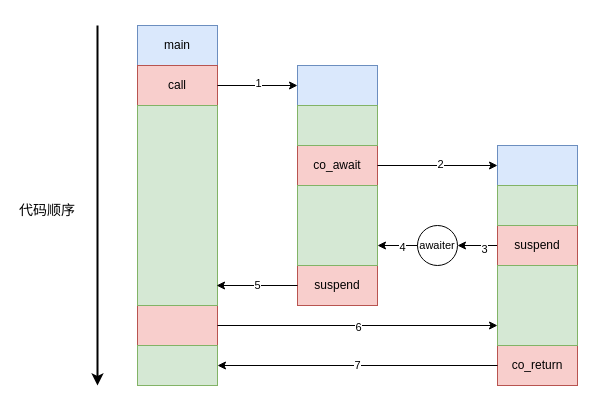
The diagram is 595 pixels wide and 411 high, and some of its shapes have lost their labels. Here are the shapes that lost their labels. From the top down, the centre of each, then its label:
[337,85]: run 0
[537,165]: run 1
[177,325]: resume
